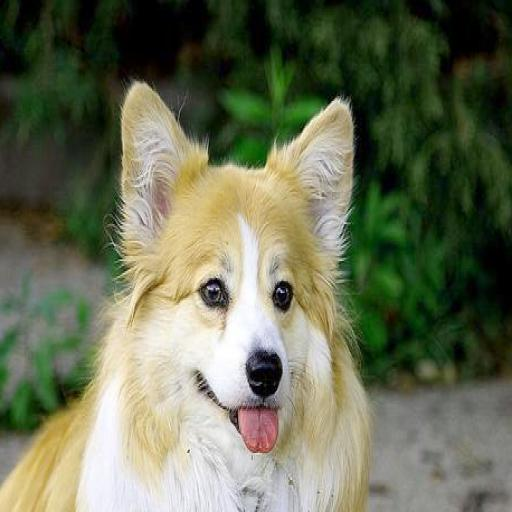dog_face: (112, 81, 355, 448)
